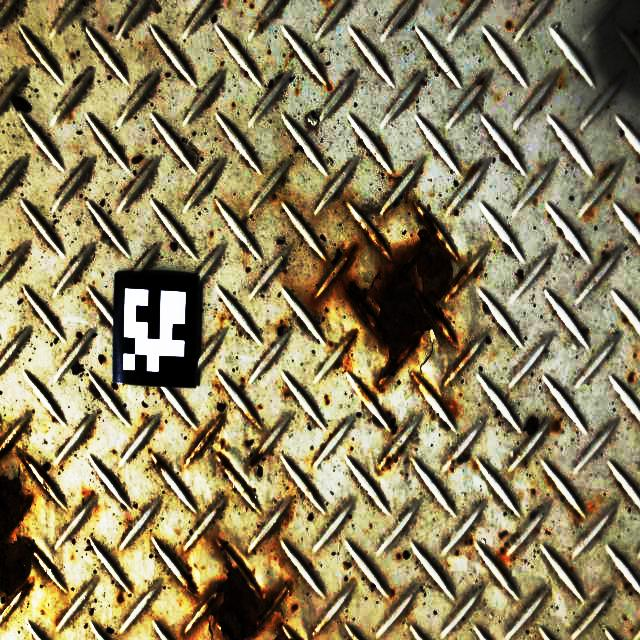Corrosion: (346, 207, 457, 392), (209, 571, 289, 640), (0, 477, 31, 599), (337, 248, 355, 281), (248, 448, 265, 468), (452, 269, 468, 290), (186, 563, 196, 596), (221, 457, 227, 472), (206, 432, 212, 445), (155, 461, 162, 471)
